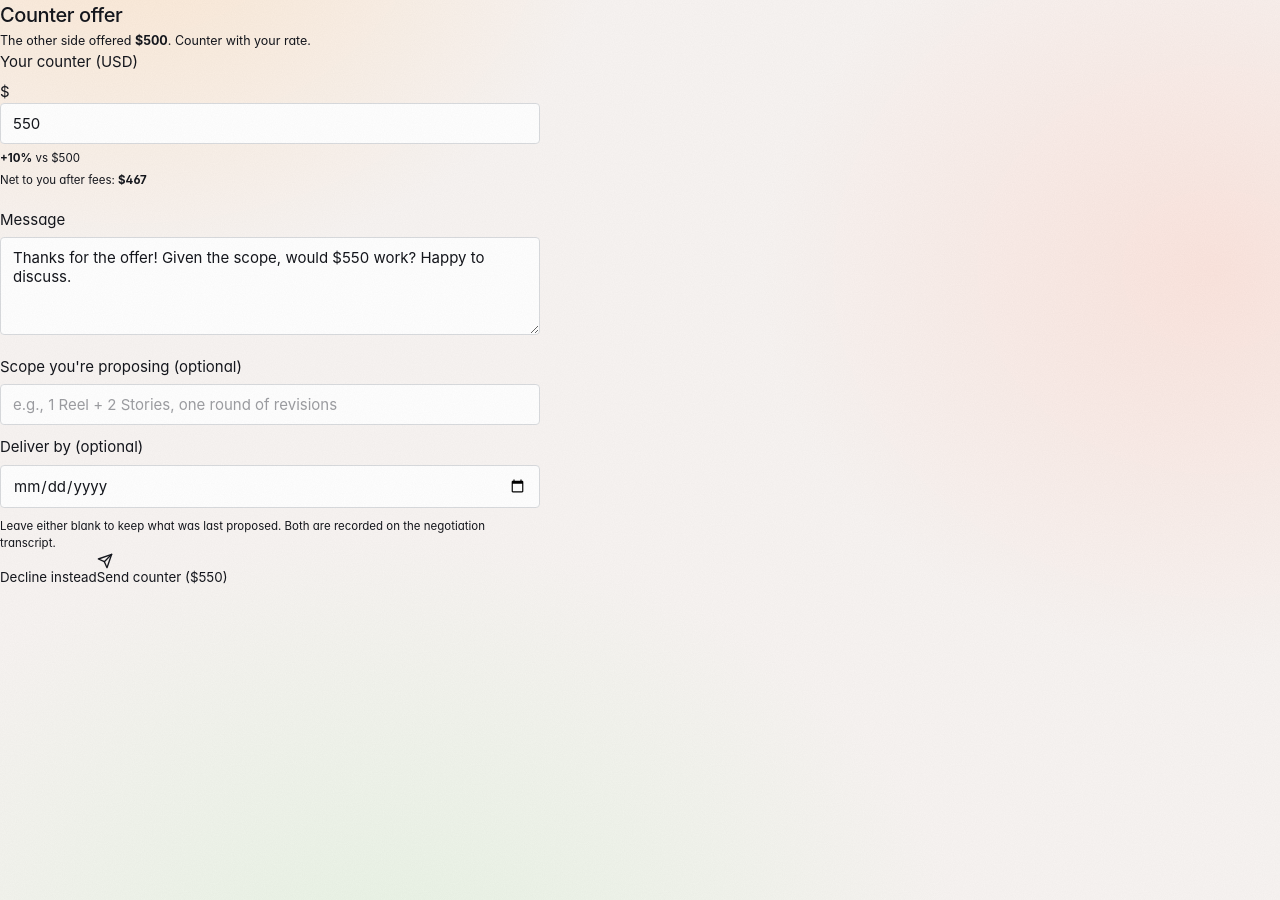
Test: CounterOfferModal › disables Send when rate is 0
The width and height of the screenshot is (1280, 900).
Replace the text in the number field with "0". click: (270, 123)
box: [0,103,540,144]
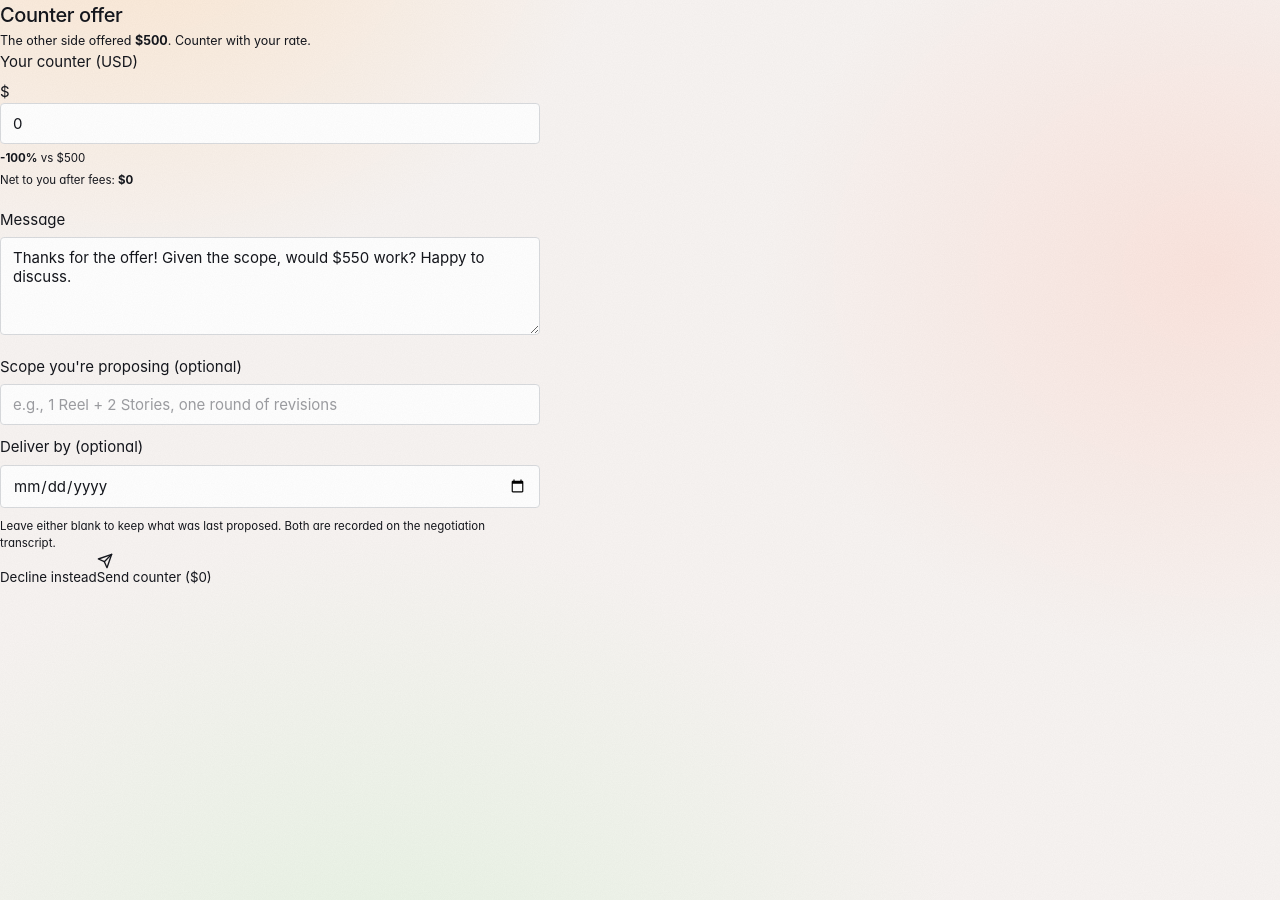
expect the button "Send counter ($0)" is disabled: met, box [97,553,212,585]
